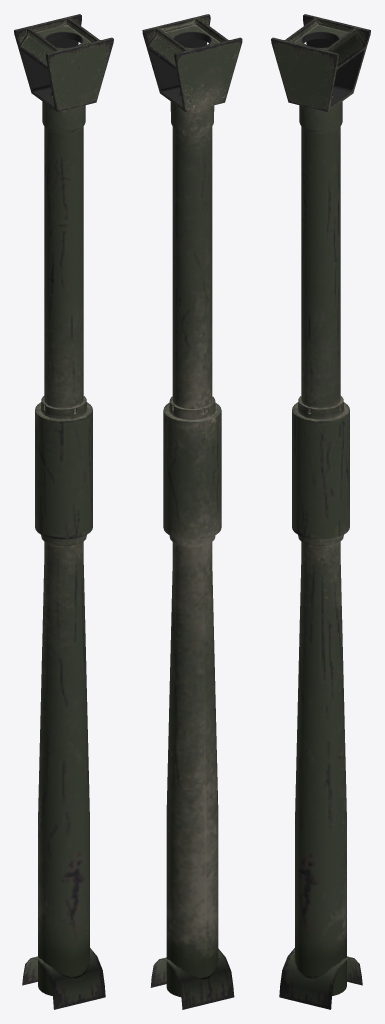
The model's file is Gun_01.glb.
3 renders of one model, left to right at view 1: azimuth 30°, elevation 25°; view 2: azimuth 210°, elevation 25°; view 3: azimuth 330°, elevation 25°, orthographic.
Parts seen in each view (by area): view 1: set_0_group_0; view 2: set_0_group_0; view 3: set_0_group_0.
Boxes of the visible parts, <box> form: set_0_group_0: <box>14,14,113,1009</box>; set_0_group_0: <box>142,14,242,1009</box>; set_0_group_0: <box>271,14,370,1009</box>.
Bounding box in the file's own units: 0.37 × 5.13 × 0.33.
1 material, 1 textured.
